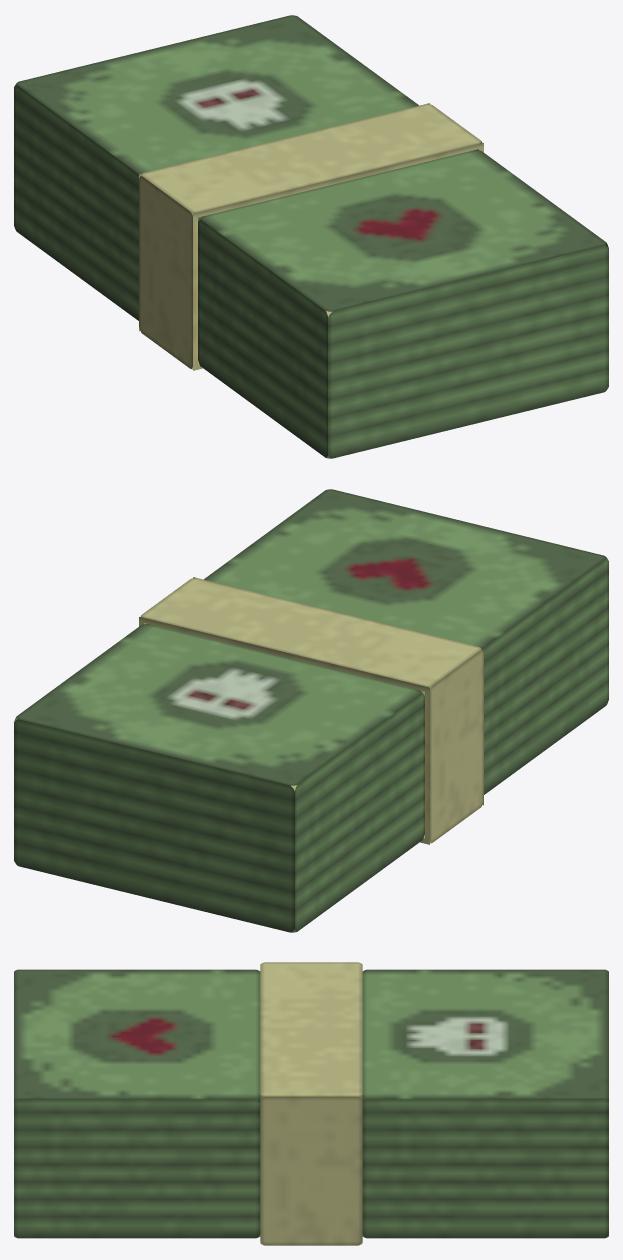
Rendered from Money.fbx.
3 views of the same model, one above another, from view 1: azimuth 30°, elevation 25°; view 2: azimuth 150°, elevation 25°; view 3: azimuth 270°, elevation 25° (orthographic). The views are drawn at different scales.
Parts seen in each view (by area): view 1: mesh; view 2: mesh; view 3: mesh.
Part boxes in pixels (x1,y1,x2,y2): mesh: (14, 15, 608, 458); mesh: (14, 489, 608, 932); mesh: (14, 962, 608, 1245).
Size of the model in its own units: 104 by 53.53 by 194.
1 material, 1 textured.
